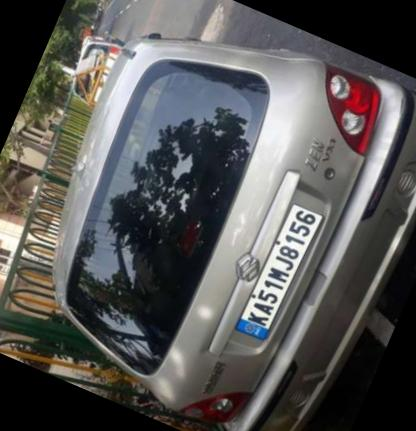plate: (227, 191, 339, 356)
